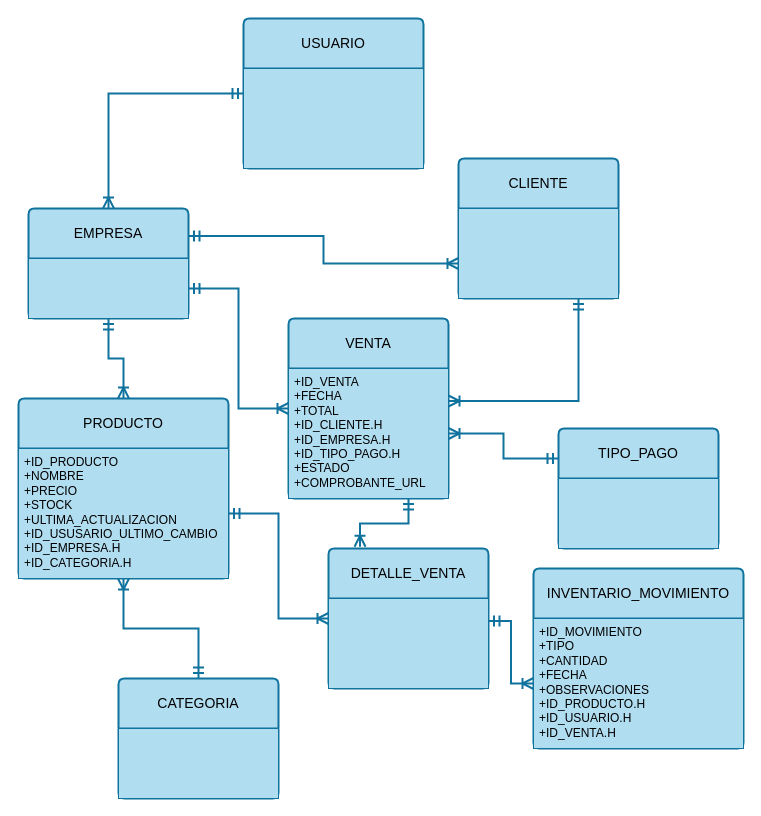
Some shapes in this 761 by 816 pixel diagram are drawn without their labels. Each missing label, with the centre of its shape:
+ID_CATEGORIA +NOMBRE: point 198,763
+ID_CLIENTE +NOMBRE +DNI +TELEFONO +ID_EMPRESA.H: point 538,253
+ID_DETALLE +CANTIDAD +PRECIO_UNITARIO +ID_VENTA.H +ID_PRODUCTO.H: point 408,643
+ID_EMPRESA +NOMBRE +ID_USUSARIO.H: point 108,288
+ID_TIPO_PAGO +DESCRIPCION: point 638,513
+ID_USUARIO +EMAIL +AUTH0_ID +IS_ACTIVE +TIPO_PLAN: point 333,118
